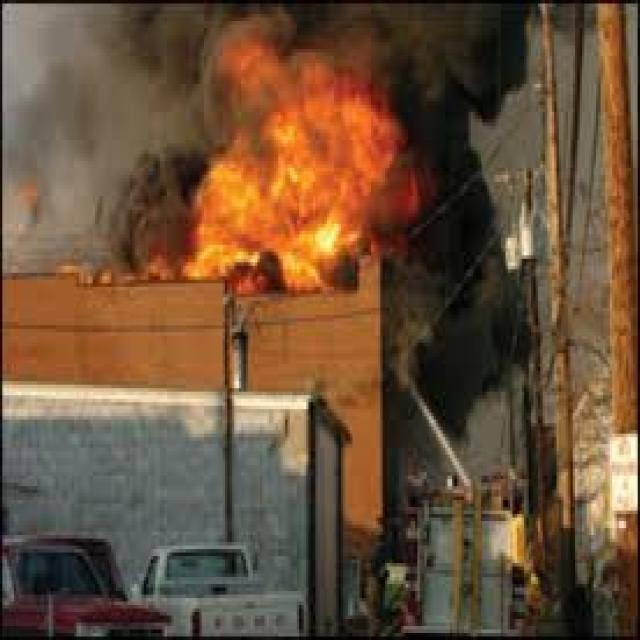Fire: (210, 120, 405, 284)
Smoke: (2, 2, 190, 266), (413, 3, 522, 170)
